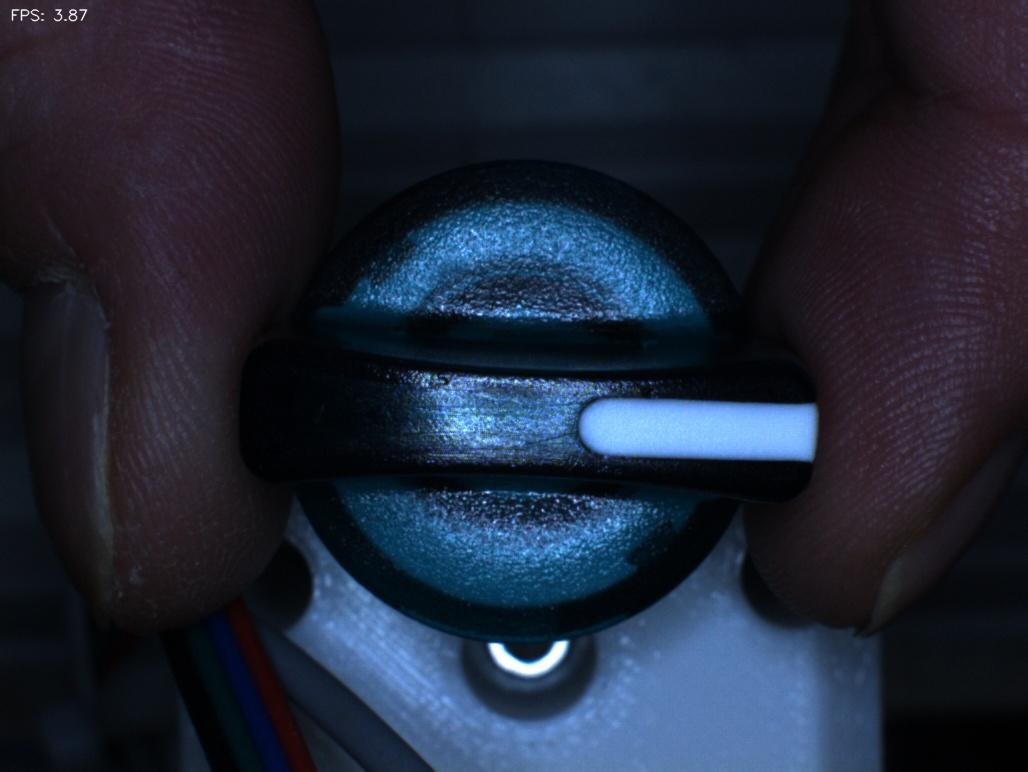Choc: (616, 358, 682, 426)
